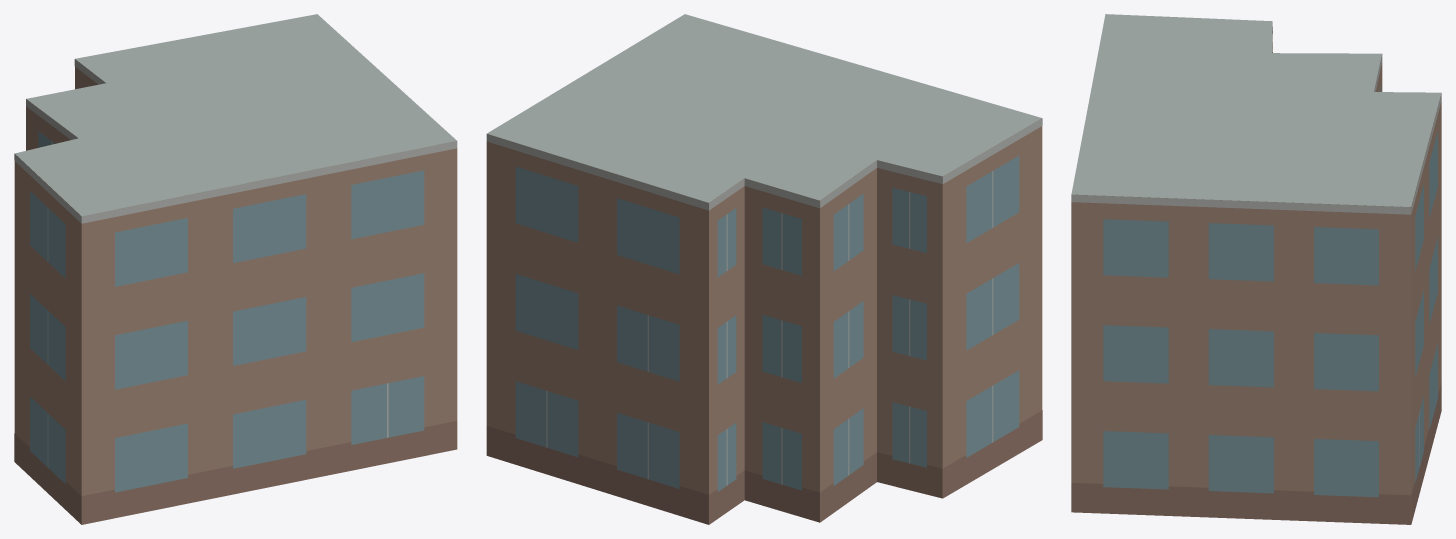
File: survey-upis-32985613.glb
3 views of the same model, side by side, from view 1: azimuth 30°, elevation 25°; view 2: azimuth 150°, elevation 25°; view 3: azimuth 270°, elevation 25° (orthographic). The views are drawn at different scales.
Visible parts, largest first — view 1: survey-upis-32985613.tmp; view 2: survey-upis-32985613.tmp; view 3: survey-upis-32985613.tmp.
Part boxes in pixels (x1=…): survey-upis-32985613.tmp: x1=14, y1=14, x2=457, y2=524; survey-upis-32985613.tmp: x1=486, y1=14, x2=1042, y2=524; survey-upis-32985613.tmp: x1=1071, y1=14, x2=1441, y2=524.
Bounding box in the file's own units: 13.3 × 10.2 × 10.78.
